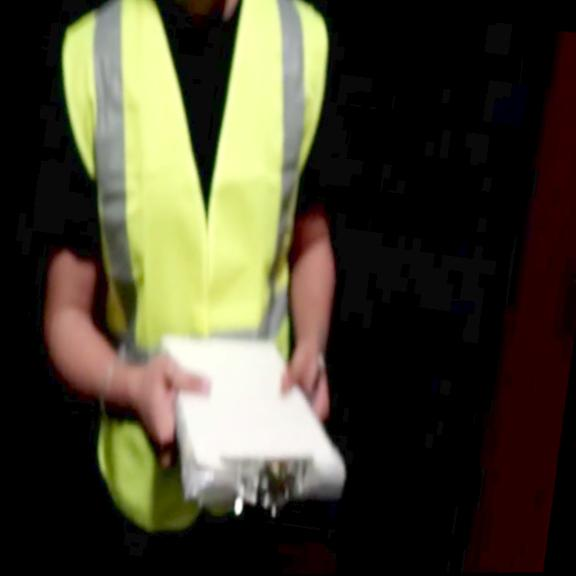safety_vest: (0, 0, 342, 545)
